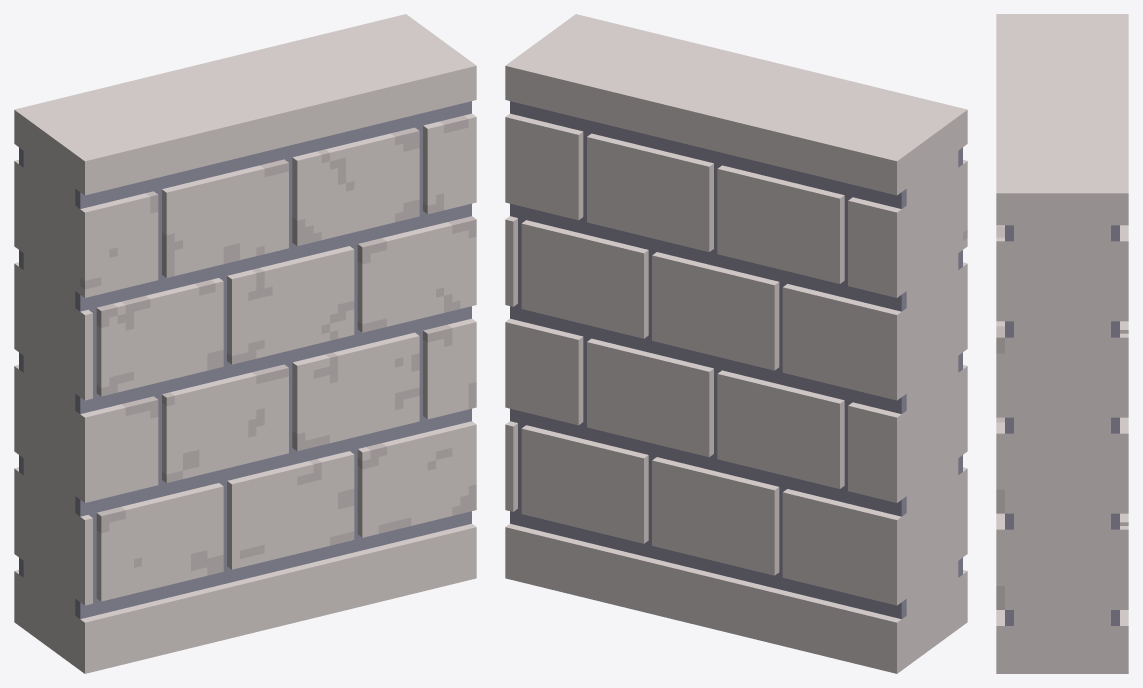
Rendered from WallBothSide2.obj.
3 renders of one model, left to right at view 1: azimuth 30°, elevation 25°; view 2: azimuth 150°, elevation 25°; view 3: azimuth 270°, elevation 25°, orthographic. The views are drawn at different scales.
Size of the model in its own units: 4.8 by 6 by 1.5.
Materials: 1 (1 with a texture image).
